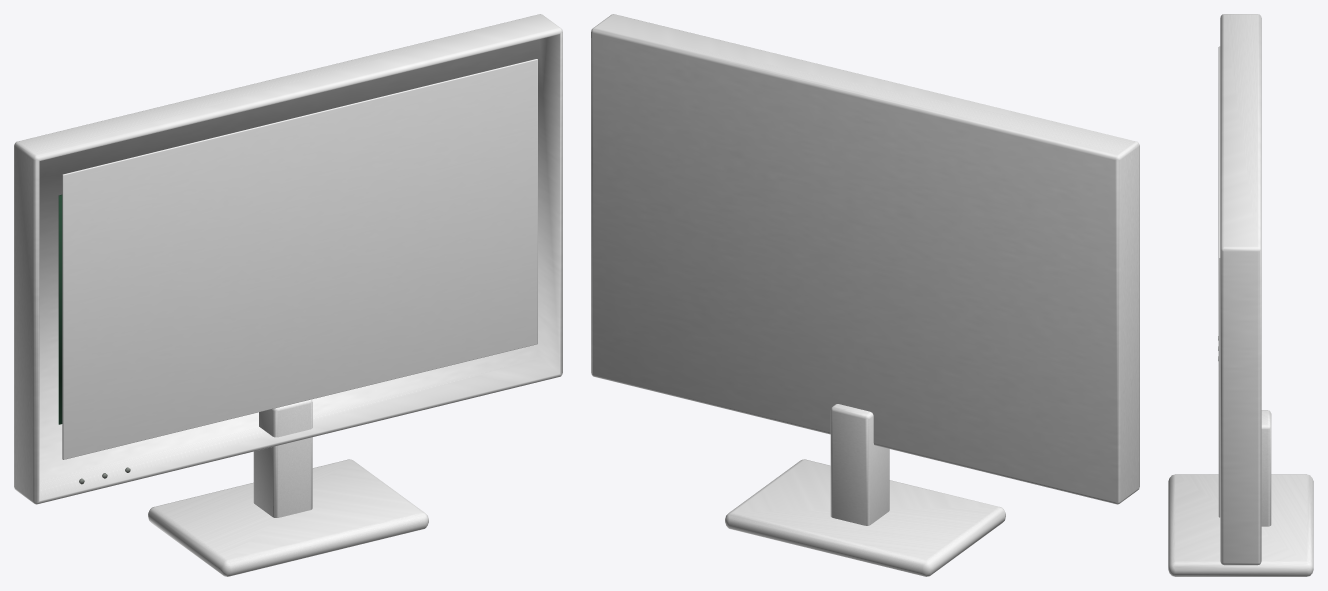
Rendered from intact.glb.
The picture shows the model from 3 angles, left to right: view 1: azimuth 30°, elevation 25°; view 2: azimuth 150°, elevation 25°; view 3: azimuth 270°, elevation 25°; orthographic projection. The views are drawn at different scales.
Parts seen in each view (by area): view 1: monitor-component-001-screen, monitor-component-000-black, monitor-component-007-black, monitor-component-006-black, monitor-component-002-circuit; view 2: monitor-component-000-black, monitor-component-007-black, monitor-component-006-black; view 3: monitor-component-000-black, monitor-component-007-black, monitor-component-001-screen, monitor-component-006-black.
Boxes of the visible parts, <box> form: monitor-component-001-screen: <box>62,59,537,459</box>; monitor-component-000-black: <box>14,14,562,504</box>; monitor-component-007-black: <box>148,459,428,576</box>; monitor-component-006-black: <box>253,399,312,517</box>; monitor-component-002-circuit: <box>58,194,62,424</box>; monitor-component-000-black: <box>591,14,1139,504</box>; monitor-component-007-black: <box>725,459,1005,576</box>; monitor-component-006-black: <box>830,404,889,525</box>; monitor-component-000-black: <box>1220,14,1261,565</box>; monitor-component-007-black: <box>1168,474,1313,576</box>; monitor-component-001-screen: <box>1218,46,1220,517</box>; monitor-component-006-black: <box>1261,410,1271,526</box>.
Size of the model in its own units: 0.46 by 0.367 by 0.12.
4 materials, 4 textured.
